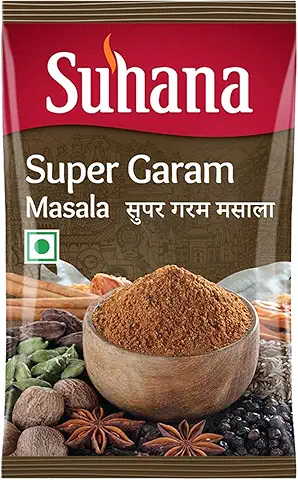Garamasala: (2, 1, 298, 480)
